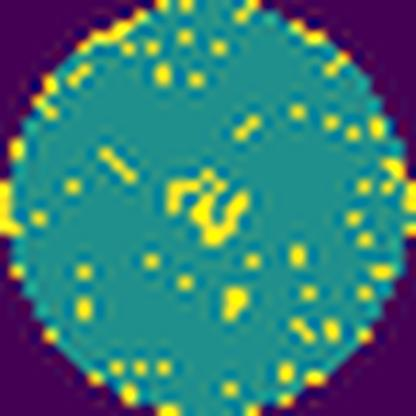Center: (164, 160, 256, 252)
